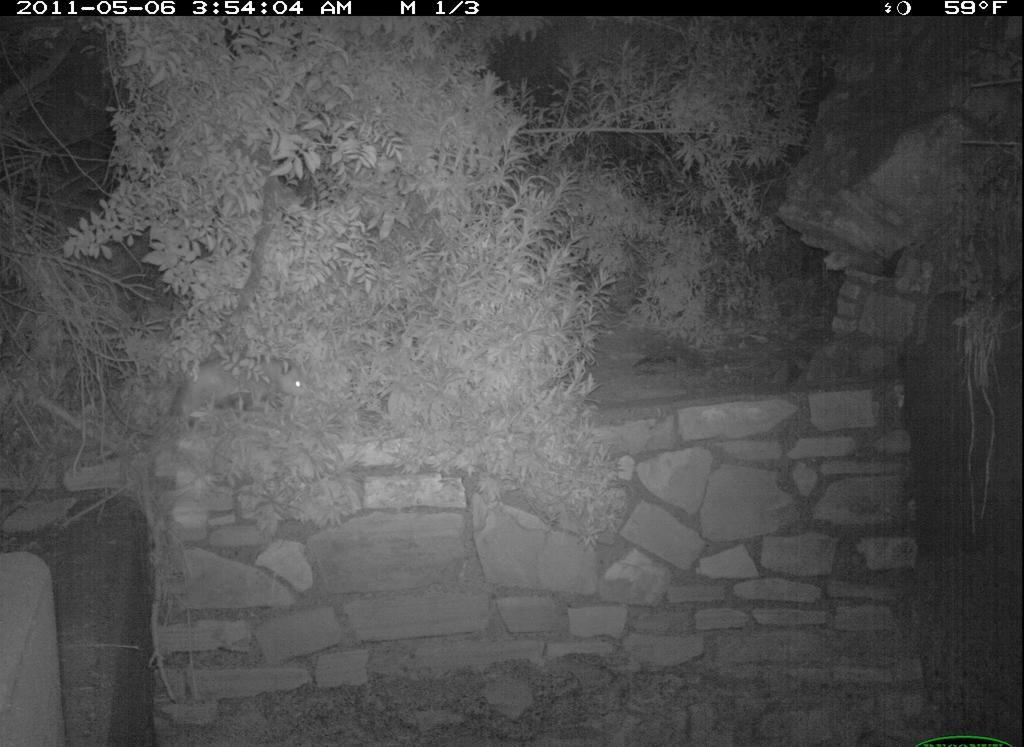opossum: (172, 359, 317, 426)
